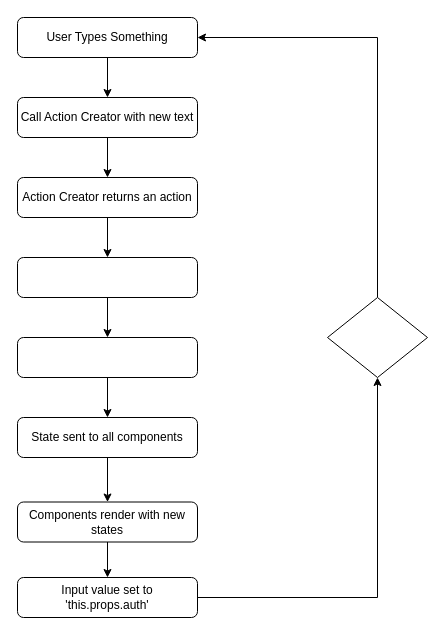
The diagram is 445 pixels wide and 635 high, and some of its shapes have lost their labels. The shapes that lost their labels are listed below. From the top down, each one's box as (x1, y1, x2, y2) in pixels, then its label:
(16, 256, 198, 298): Action sent to all reducers
(16, 336, 198, 378): Reducer calculates new app state
(326, 296, 428, 378): Wait for new change
